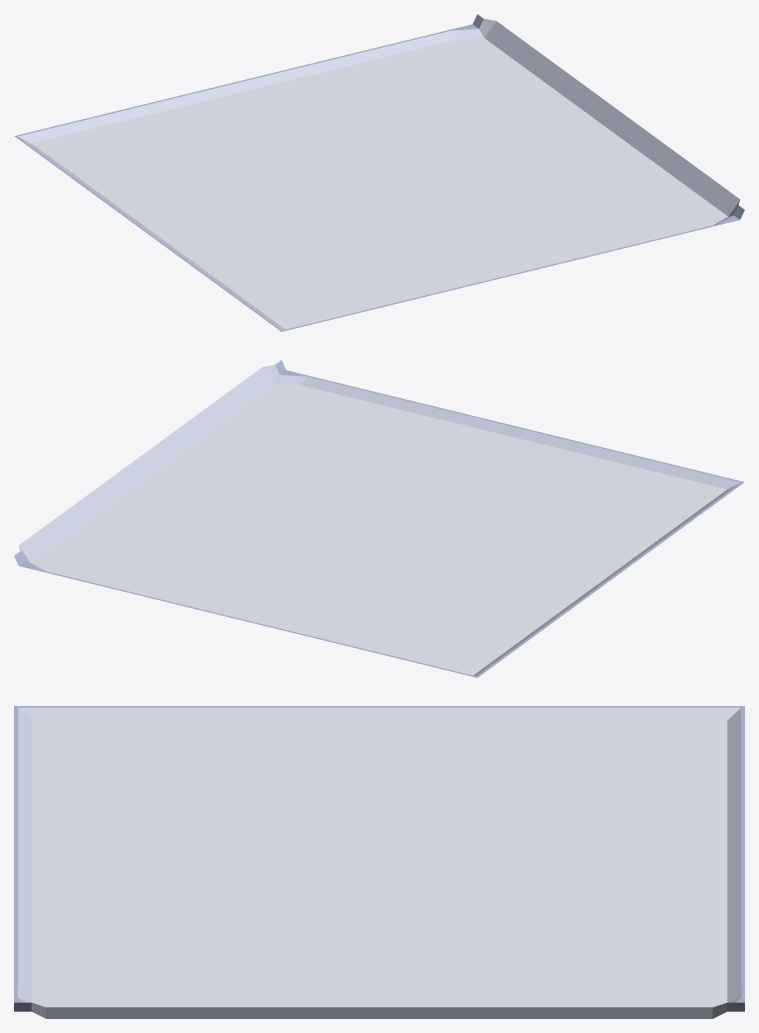
File: Tile_Ceiling_Edge_Cap.fbx
The picture shows the model from 3 angles, top to bottom: view 1: azimuth 30°, elevation 25°; view 2: azimuth 150°, elevation 25°; view 3: azimuth 270°, elevation 25°; orthographic projection. The views are drawn at different scales.
Visible parts, largest first — view 1: Tile_Floor_Cap1; view 2: Tile_Floor_Cap1; view 3: Tile_Floor_Cap1.
Boxes of the visible parts, x1,y1,x2,y2 form: Tile_Floor_Cap1: (14, 14, 744, 331); Tile_Floor_Cap1: (14, 360, 744, 677); Tile_Floor_Cap1: (14, 706, 744, 1018).
Size of the model in its own units: 203 by 5.9 by 200.
1 material, 1 textured.
